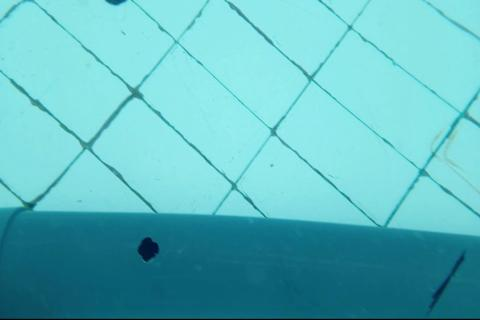kebocoran: (136, 236, 160, 265)
keretakan: (424, 248, 467, 320)
